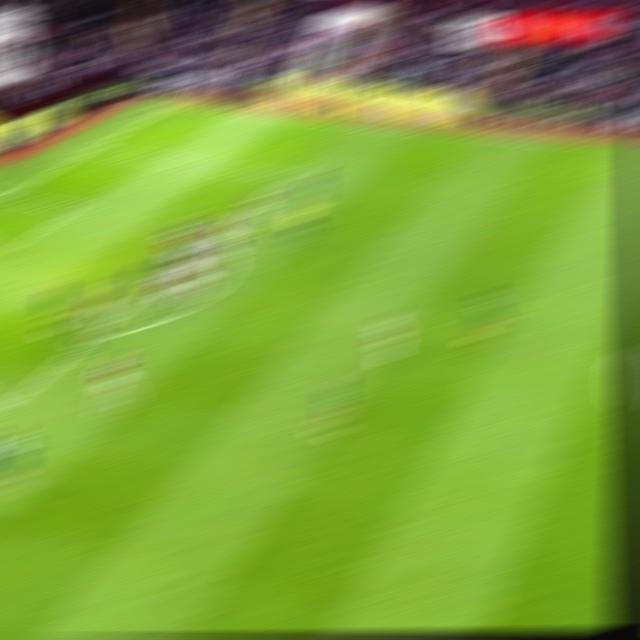bigarea_top_inner: (273, 168, 303, 182)
bigarea_top_outter: (80, 143, 109, 155)
bottom_arc_area_intersection: (71, 332, 102, 347)
corner: (163, 97, 195, 105)
smallarea_top_inner: (62, 199, 93, 215)
smallarea_top_outter: (0, 188, 22, 202)
top_arc_area_intersection: (197, 232, 225, 244)
